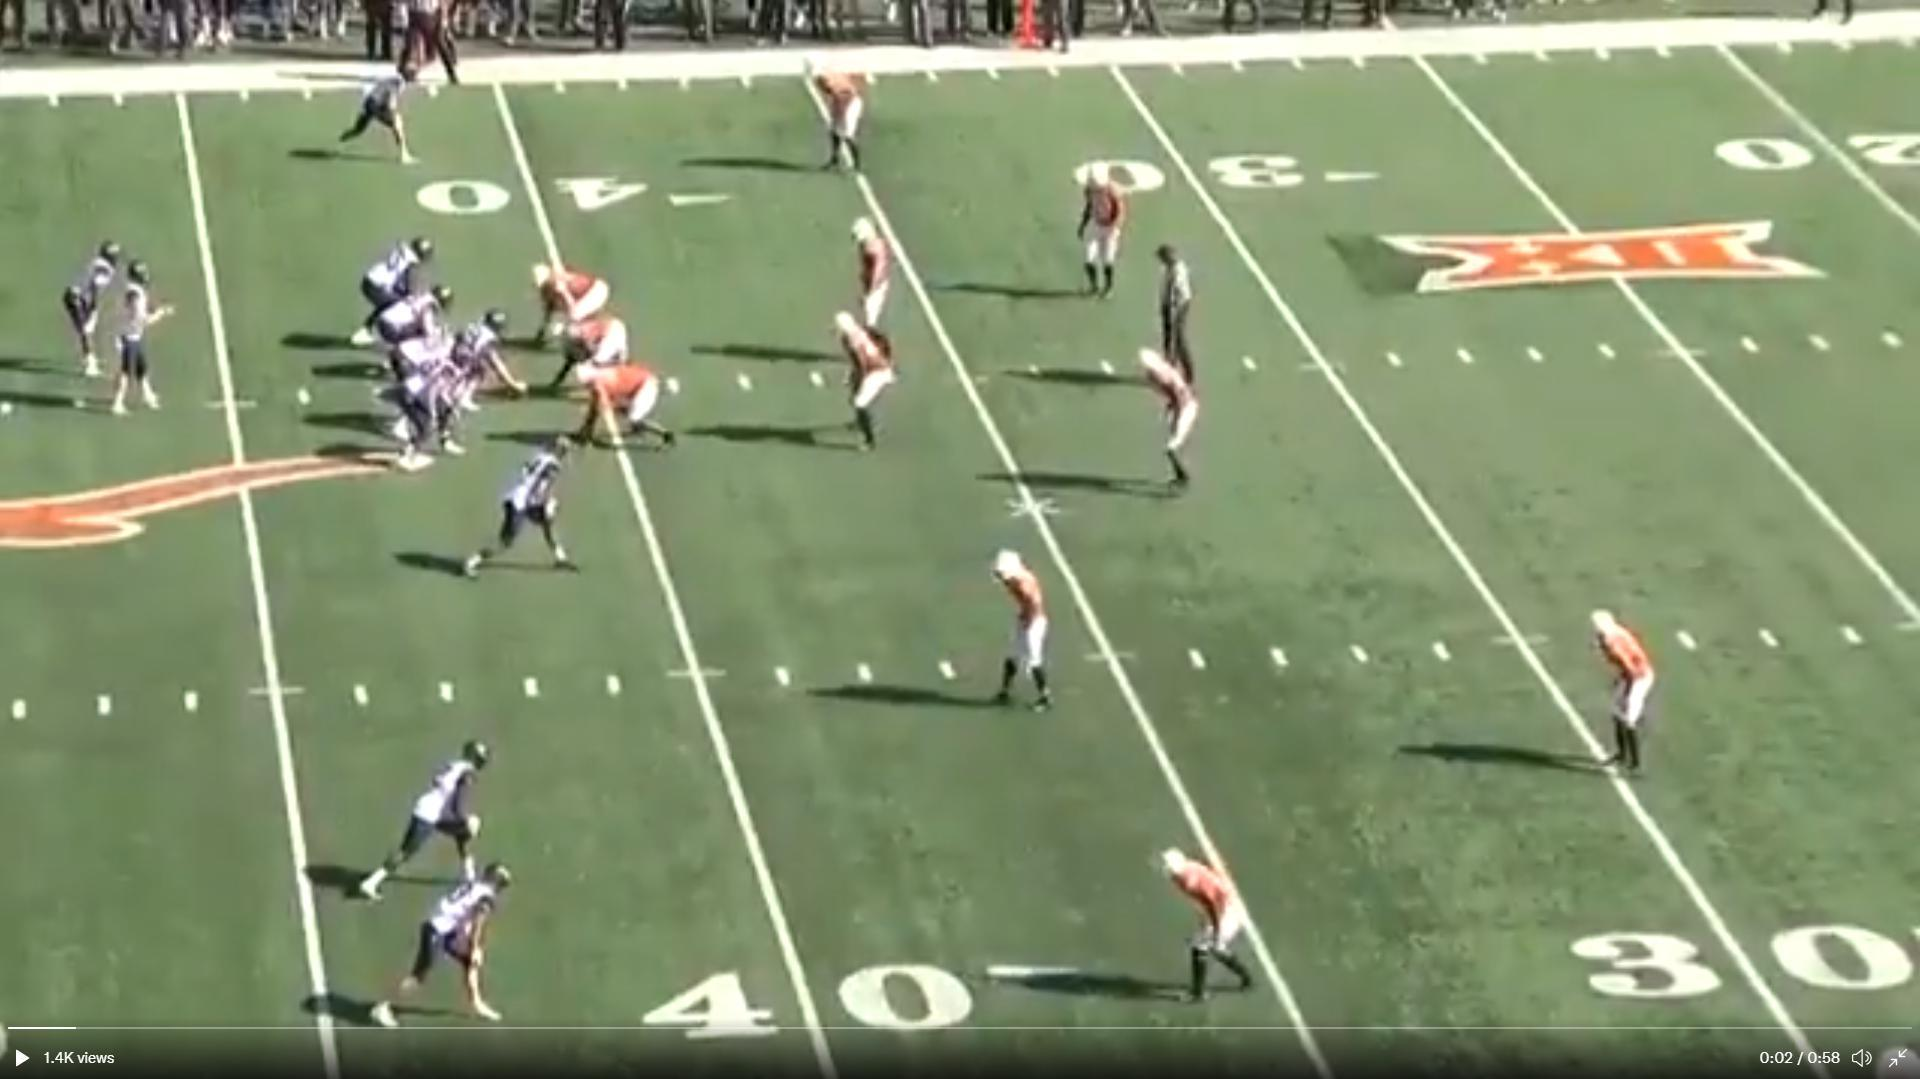defense: (1153, 835, 1261, 1004), (1588, 608, 1665, 793), (989, 546, 1063, 722), (568, 359, 682, 459), (1130, 346, 1200, 500), (831, 307, 898, 459), (1068, 162, 1130, 303), (808, 61, 874, 187), (526, 259, 613, 346), (844, 215, 901, 343), (559, 314, 636, 404)
oline: (386, 340, 477, 480), (390, 324, 479, 445), (351, 237, 431, 352), (435, 309, 521, 410), (378, 280, 458, 372)
qb: (105, 256, 182, 421)
ref: (1155, 227, 1204, 392), (389, 0, 467, 99)
skill: (367, 860, 517, 1034), (355, 736, 493, 908), (467, 443, 591, 592), (53, 243, 123, 393), (338, 57, 426, 171)
